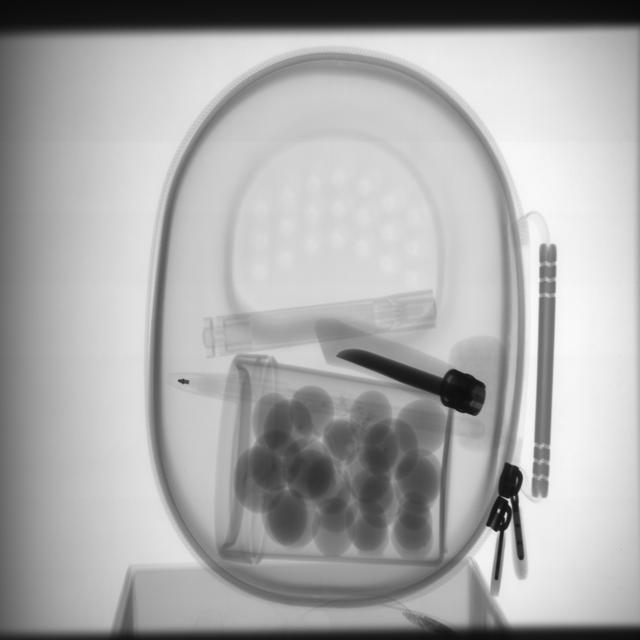knife: (341, 344, 490, 422)
